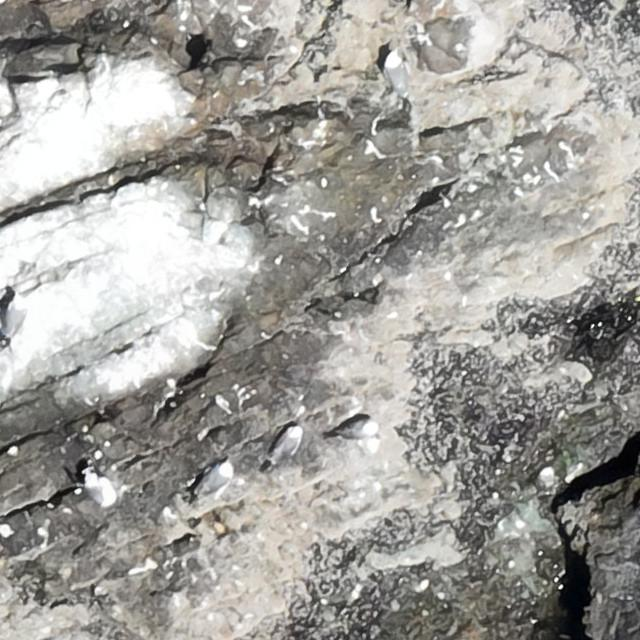umineko: (186, 461, 232, 506), (268, 426, 301, 466), (382, 50, 409, 96), (82, 470, 115, 507), (1, 295, 24, 342), (334, 419, 378, 441), (2, 515, 24, 533), (539, 467, 553, 491)
